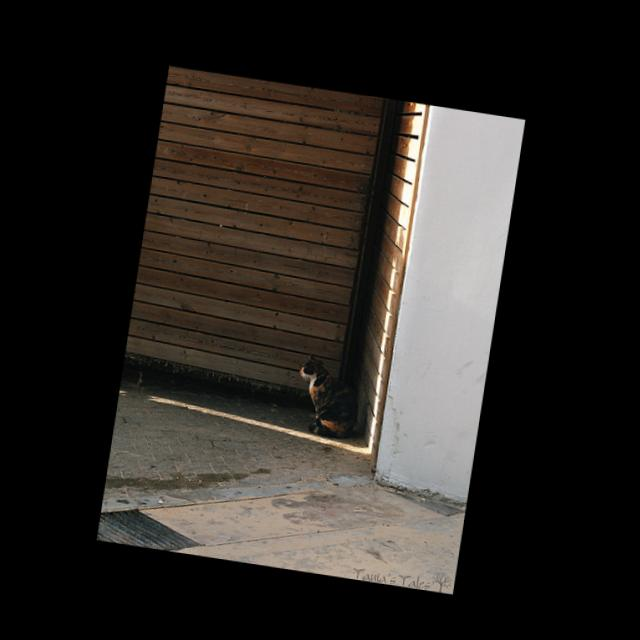animals: (289, 353, 367, 440)
